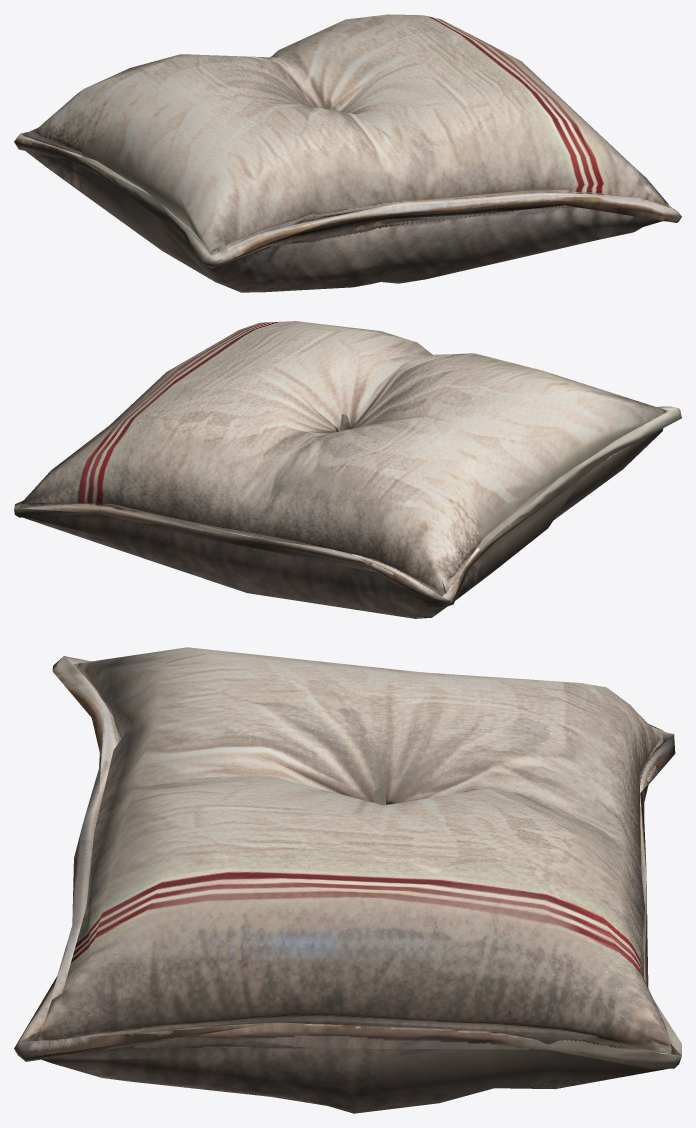
Rendered from act1_kit_v1_linen_pillow.glb.
3 views of the same model, one above another, from view 1: azimuth 30°, elevation 25°; view 2: azimuth 150°, elevation 25°; view 3: azimuth 270°, elevation 25° (orthographic). The views are drawn at different scales.
Parts seen in each view (by area): view 1: A24_6_linen_pillow; view 2: A24_6_linen_pillow; view 3: A24_6_linen_pillow.
Part boxes in pixels (box(x1,y1,x2,y2)): A24_6_linen_pillow: box(14, 14, 681, 292); A24_6_linen_pillow: box(14, 321, 681, 618); A24_6_linen_pillow: box(14, 647, 681, 1113).
Bounding box in the file's own units: 0.9954 × 0.3553 × 0.8615.
1 material, 1 textured.
